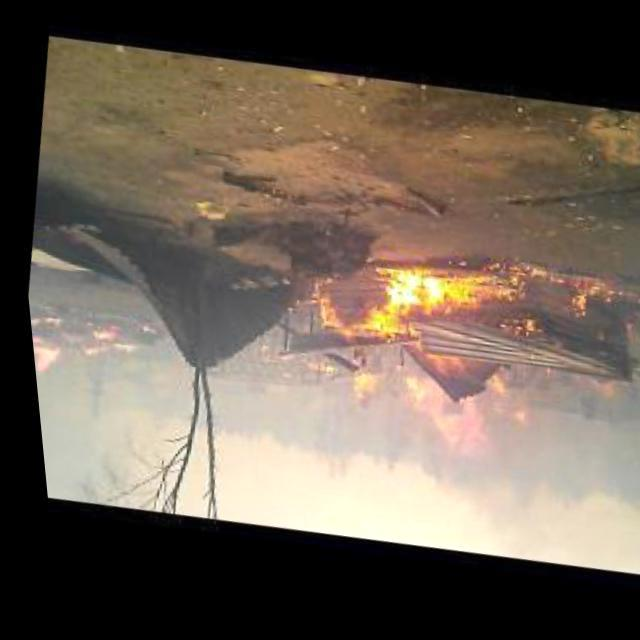fire: (280, 241, 624, 493)
